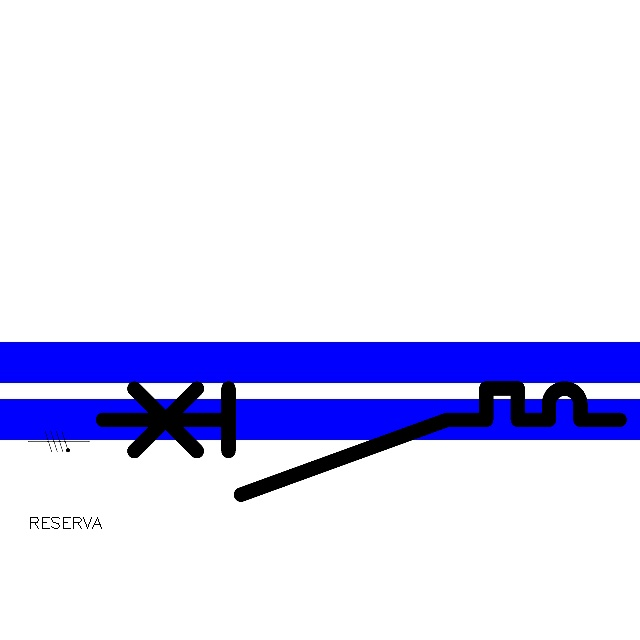interruptor_termomagnetico: (89, 375, 632, 508)
